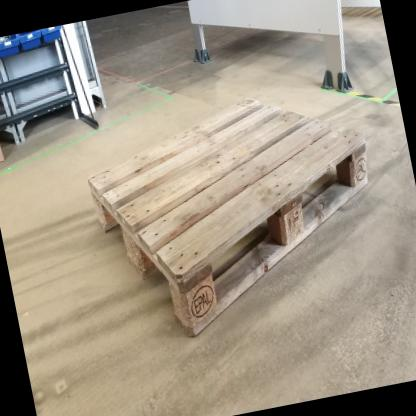BoxFace: (83, 91, 375, 351)
